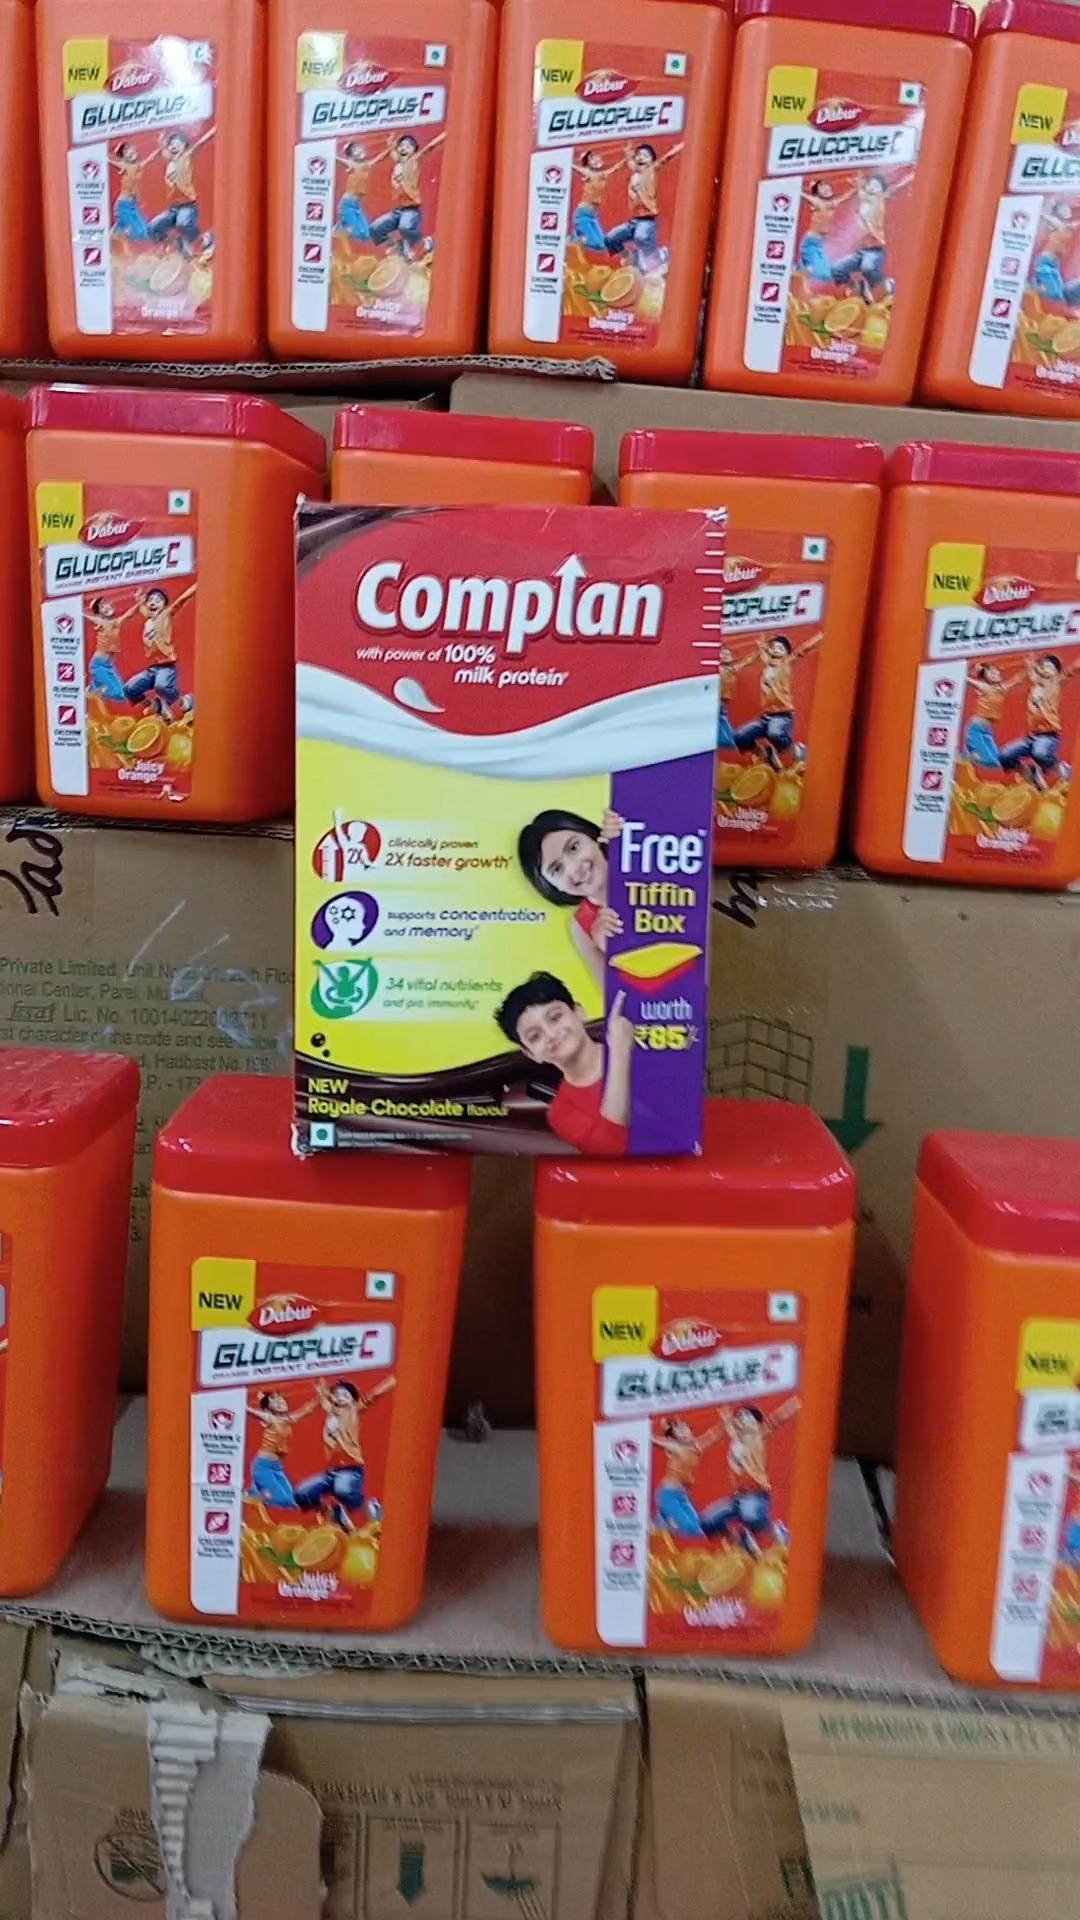COMPLAN_CHOCOLATE_500_GMS_PACK: (291, 496, 702, 1151)
